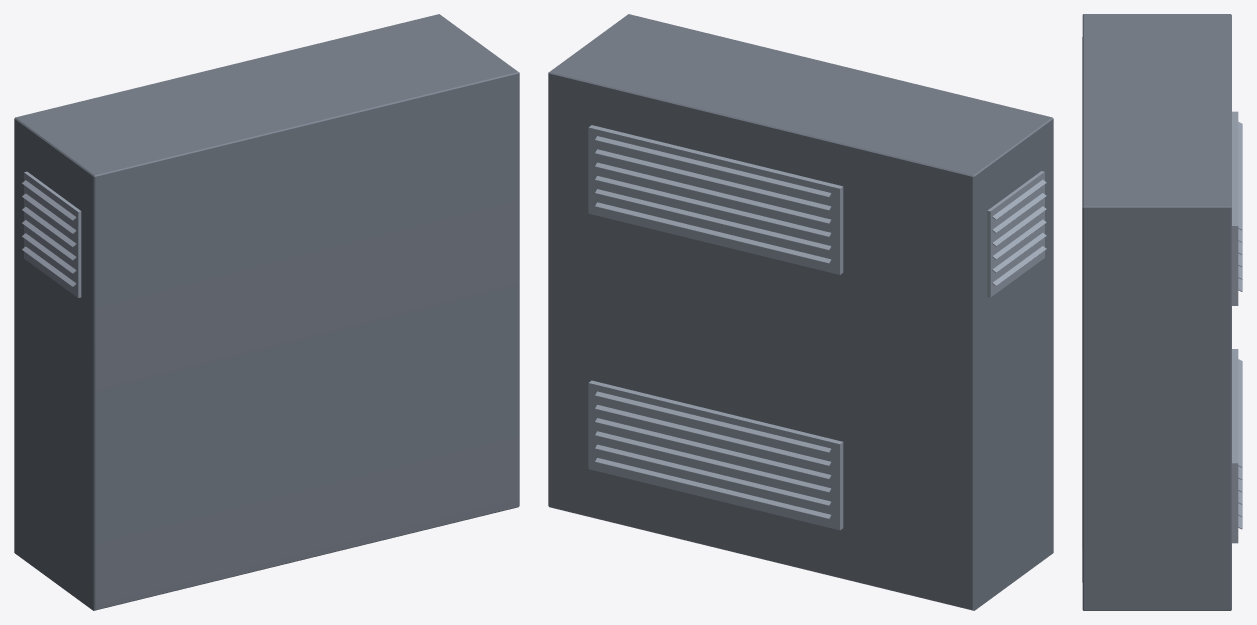
Rendered from box_cutter-machine.fbx.
3 views of the same model, side by side, from view 1: azimuth 30°, elevation 25°; view 2: azimuth 150°, elevation 25°; view 3: azimuth 270°, elevation 25° (orthographic). The views are drawn at different scales.
Visible parts, largest first — view 1: box.cutter-machine; view 2: box.cutter-machine; view 3: box.cutter-machine.
Part boxes in pixels (<box>): box.cutter-machine: <box>14,14,519,610</box>; box.cutter-machine: <box>548,14,1053,610</box>; box.cutter-machine: <box>1082,14,1242,610</box>.
Size of the model in its own units: 0.3701 by 0.3554 by 0.1274.
